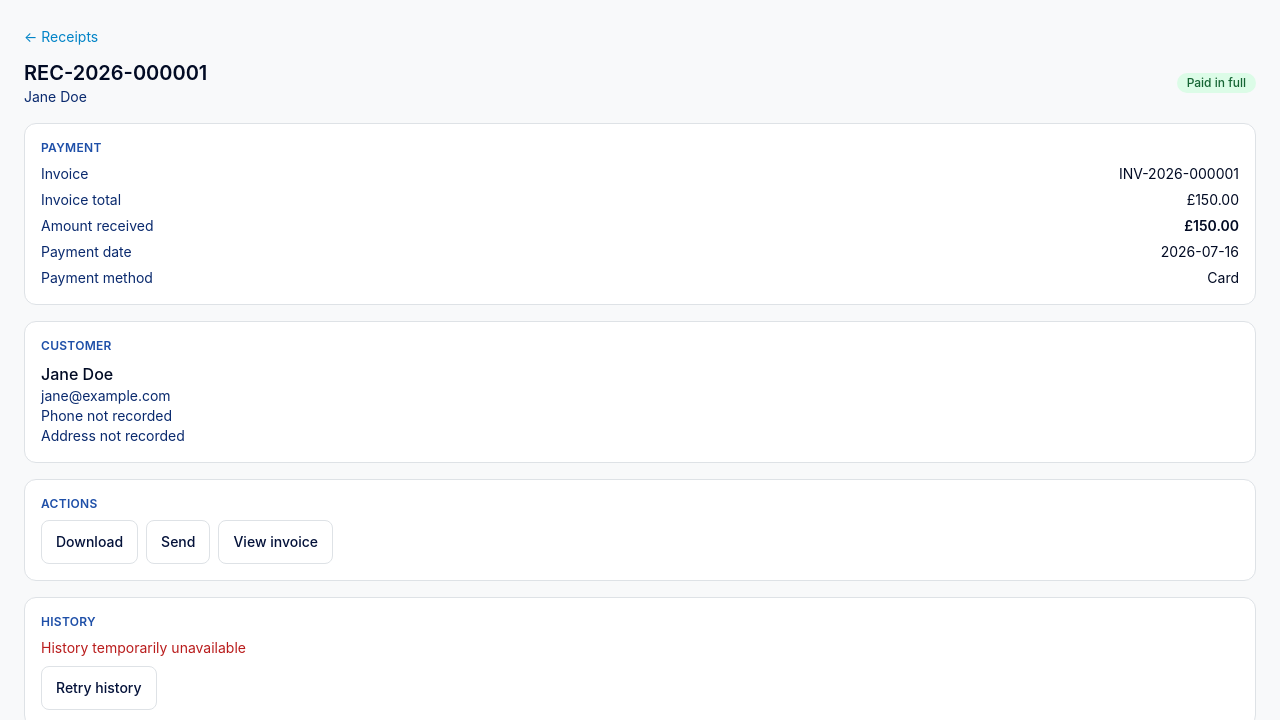
Test: ReceiptDetailPage › distinguishes a failed history load from an empty history and offers a working retry
Expected: the message shows "History temporarily unavailable", [41,639,246,656]
Expected: the text "No history yet." is not shown
Click the button "Retry history". click: (99, 688)
box: [41,666,156,710]
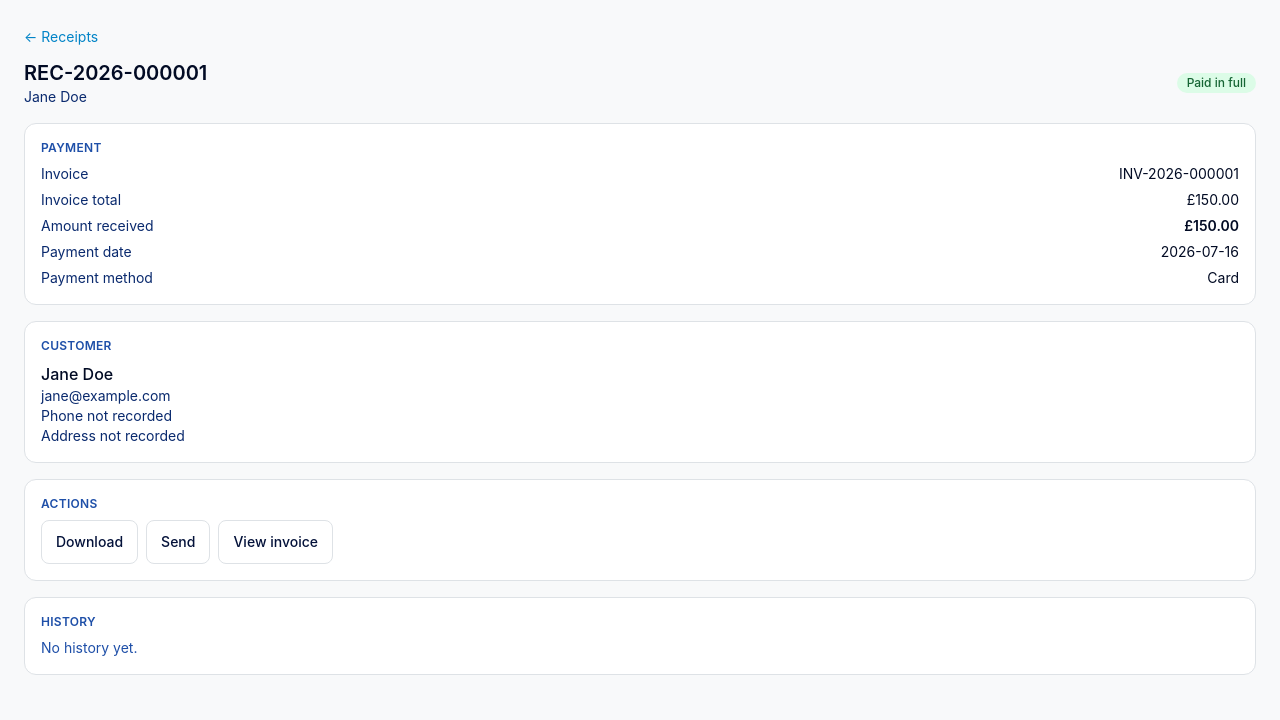
Now the text "No history yet." is shown, box [41,639,138,656]
